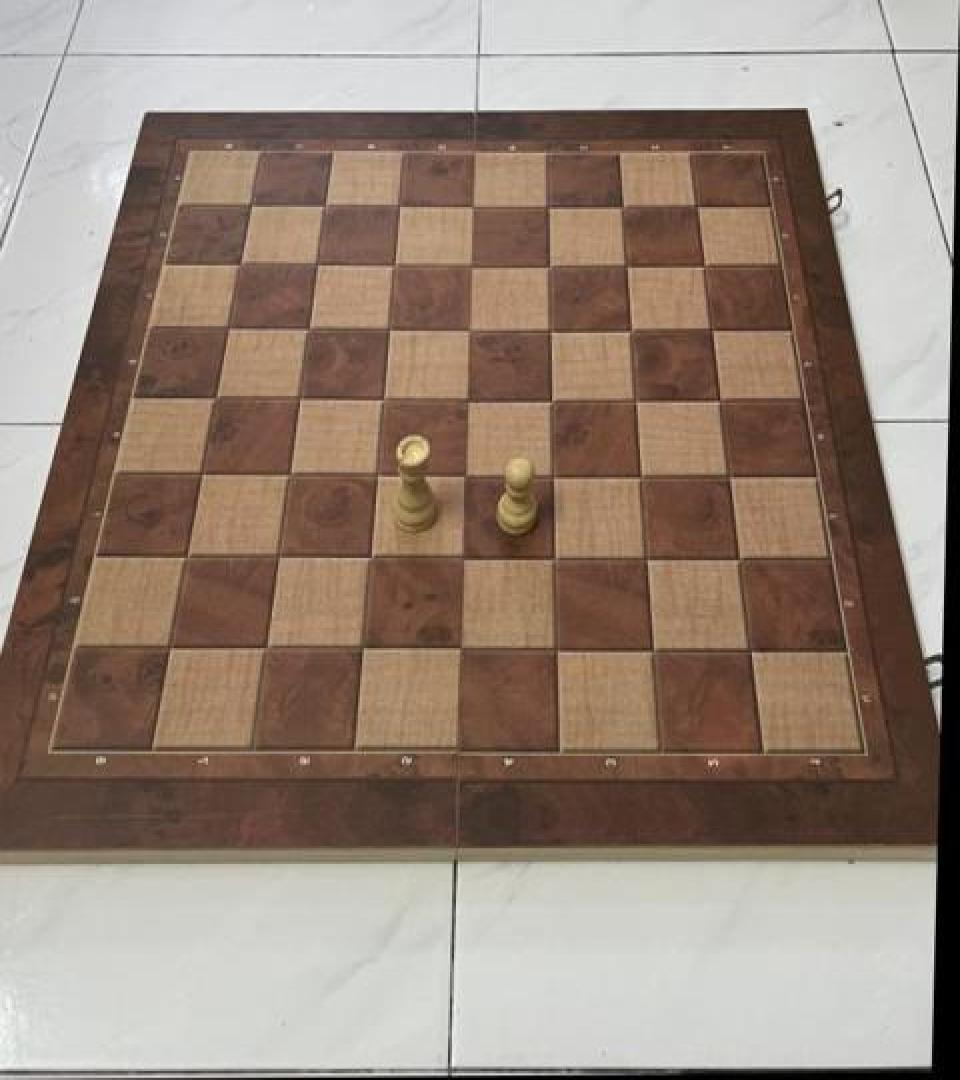xcorner: (615, 309, 649, 348), (696, 309, 730, 348), (714, 454, 748, 493), (250, 625, 284, 664), (347, 625, 381, 664), (233, 186, 267, 224), (308, 186, 342, 224), (383, 186, 417, 224), (457, 186, 491, 224), (532, 187, 566, 225), (607, 187, 641, 225), (682, 187, 716, 225), (223, 244, 257, 282), (300, 244, 334, 282), (378, 244, 412, 282), (456, 246, 490, 284), (533, 246, 567, 284), (611, 246, 645, 284), (689, 246, 723, 284), (211, 307, 245, 345), (292, 308, 326, 346), (373, 308, 407, 346), (454, 308, 488, 346), (534, 308, 568, 346), (198, 377, 232, 415), (283, 377, 317, 415), (367, 377, 401, 415), (451, 378, 485, 416), (536, 378, 570, 416), (620, 378, 654, 416), (705, 379, 739, 417), (185, 452, 219, 490), (273, 452, 307, 490), (361, 452, 395, 490), (449, 454, 483, 492), (537, 454, 571, 492), (626, 454, 660, 492), (169, 534, 203, 572), (262, 534, 296, 572), (354, 536, 388, 574), (446, 536, 480, 574), (539, 536, 573, 574), (631, 537, 665, 575), (724, 537, 758, 575), (153, 624, 187, 662), (444, 627, 478, 665), (541, 627, 575, 665), (638, 628, 672, 666), (735, 628, 769, 666)
